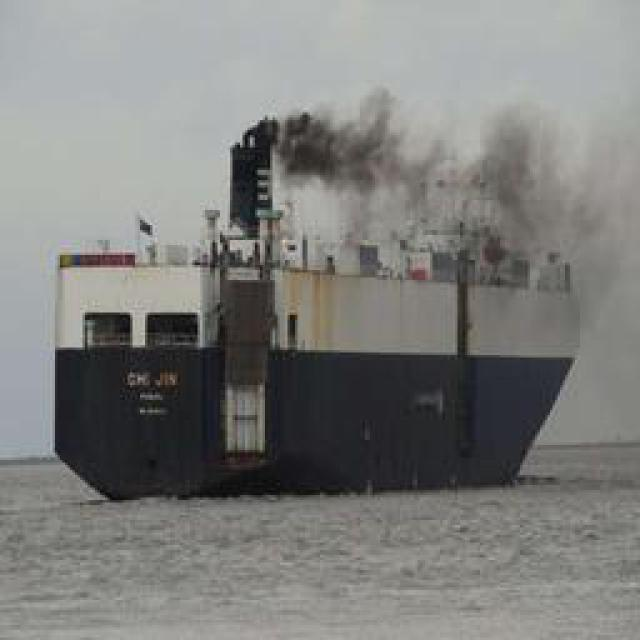Ship: (31, 99, 606, 506)
